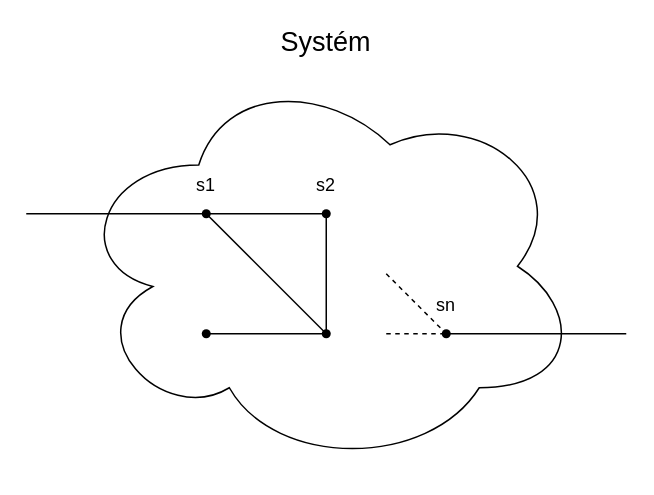
Some shapes in this 654 by 495 pixel diagram are drawn without their labels. The shapes that lost their labels are listed below. From the top down, each one's box as (x1, y1, x2, y2) in pixels, then its label:
(190, 317, 221, 349): s4
(310, 317, 341, 349): s3
